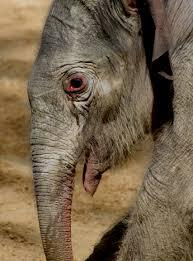elephant: (28, 0, 192, 260)
